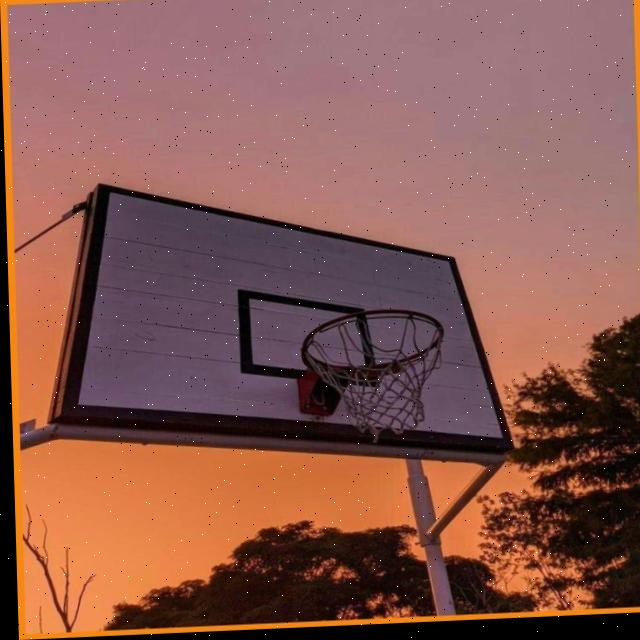hoop: (298, 301, 479, 442)
